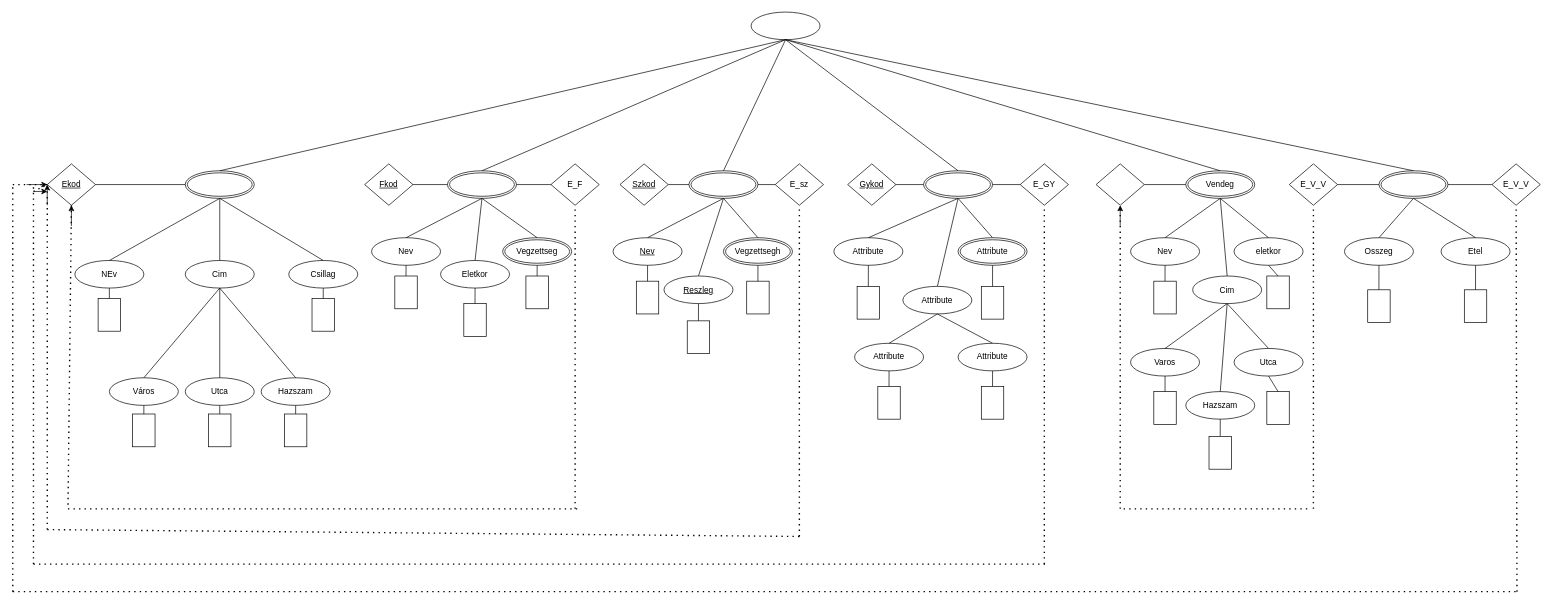
The diagram is 1553 pixels wide and 605 high, and some of its shapes have lost their labels. Here are the shapes that lost their labels. From the top down, the centre of each, then its label:
point (785, 25): Vendeglatas
point (219, 184): Etterem
point (481, 184): Foszakacs
point (723, 184): Szakacs
point (958, 184): Gyakornok
point (1119, 184): Vkod
point (1413, 184): Rendeles
